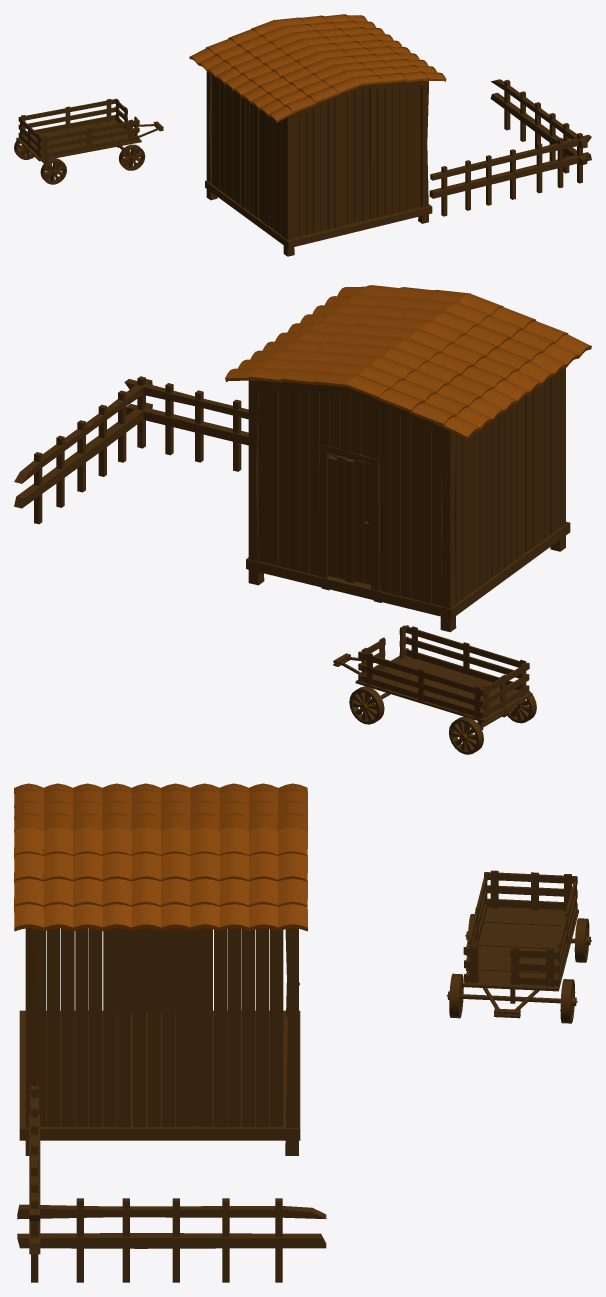
File: little_farmhouse.glb
The picture shows the model from 3 angles, top to bottom: view 1: azimuth 30°, elevation 25°; view 2: azimuth 150°, elevation 25°; view 3: azimuth 270°, elevation 25°; orthographic projection. The views are drawn at different scales.
Parts seen in each view (by area): view 1: Object_3, Object_5, Object_4, Object_2; view 2: Object_3, Object_5, Object_4, Object_2; view 3: Object_3, Object_5, Object_4, Object_2.
Boxes of the visible parts, left/top/right/bottom form: Object_3: left=16, top=74, right=432, bottom=248; Object_5: left=189, top=14, right=445, bottom=122; Object_4: left=14, top=71, right=591, bottom=256; Object_2: left=275, top=14, right=446, bottom=122; Object_3: left=246, top=370, right=570, bottom=751; Object_5: left=225, top=285, right=591, bottom=439; Object_4: left=14, top=368, right=565, bottom=754; Object_2: left=225, top=285, right=579, bottom=440; Object_3: left=19, top=849, right=590, bottom=1140; Object_5: left=14, top=783, right=307, bottom=931; Object_4: left=17, top=914, right=591, bottom=1282; Object_2: left=14, top=784, right=307, bottom=912.
Bounding box in the file's own units: 73.78 × 27.02 × 52.48.
